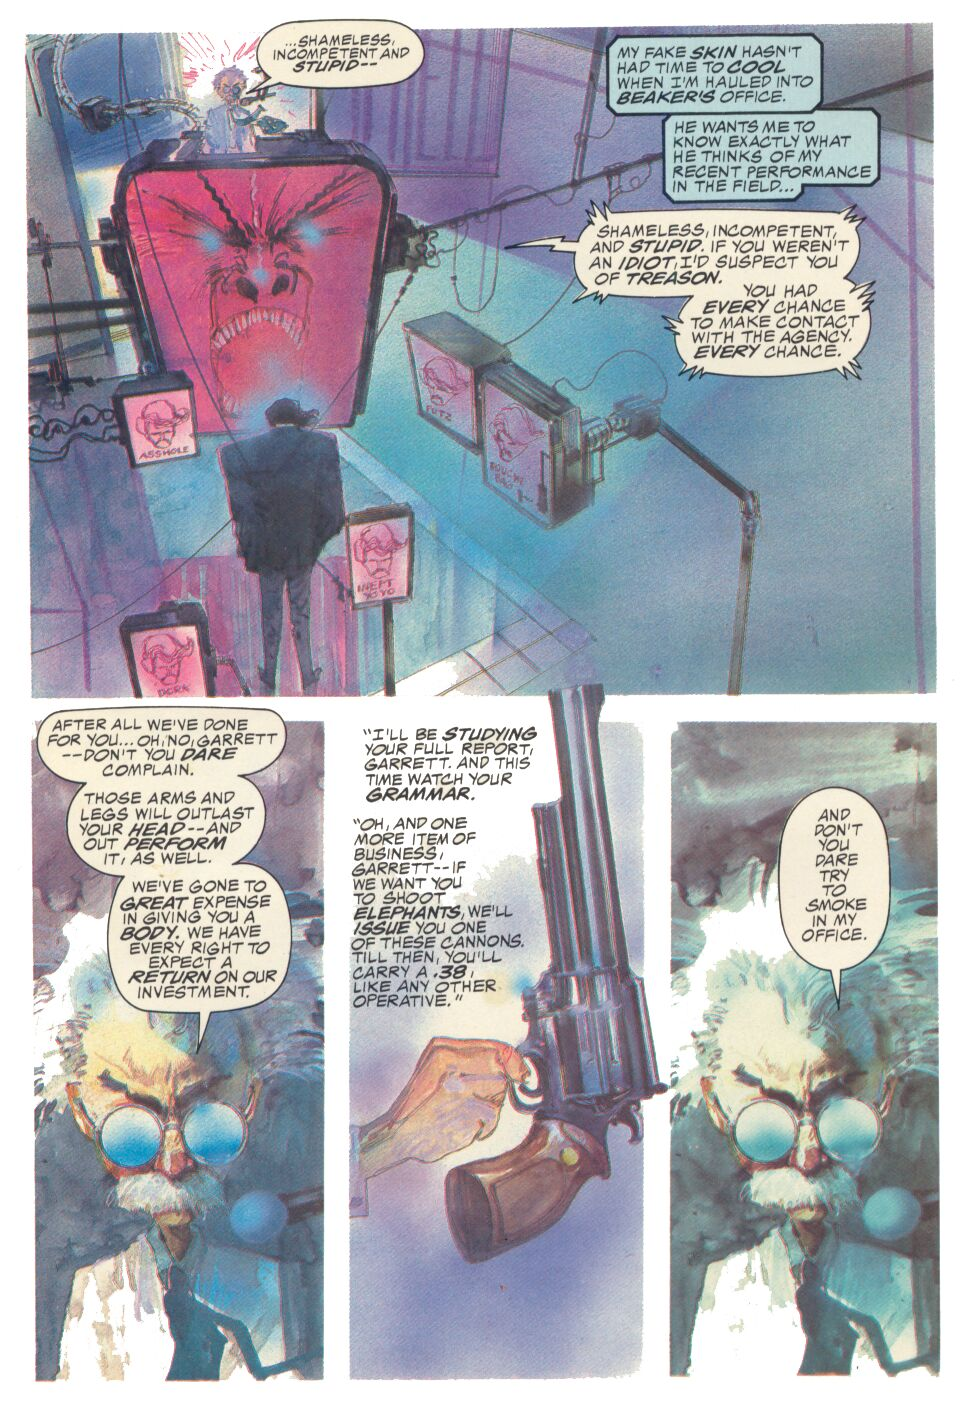Baloon: (504, 207, 867, 380), (339, 811, 520, 1020), (104, 876, 296, 1048), (778, 783, 880, 1007), (665, 109, 891, 204), (67, 783, 276, 872), (348, 717, 544, 804), (609, 33, 826, 111), (41, 713, 289, 780), (244, 20, 430, 107)
Vignetta: (24, 17, 937, 689), (335, 689, 654, 1377), (30, 722, 323, 1380), (670, 720, 941, 1387)
